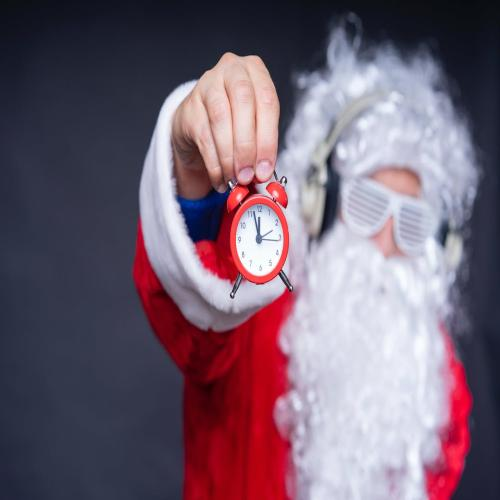Santa: (132, 26, 479, 500)
